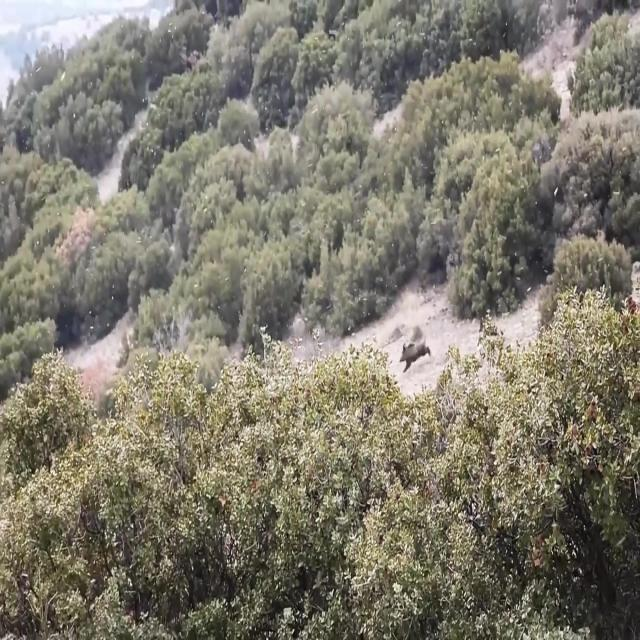pig: (398, 331, 436, 377)
